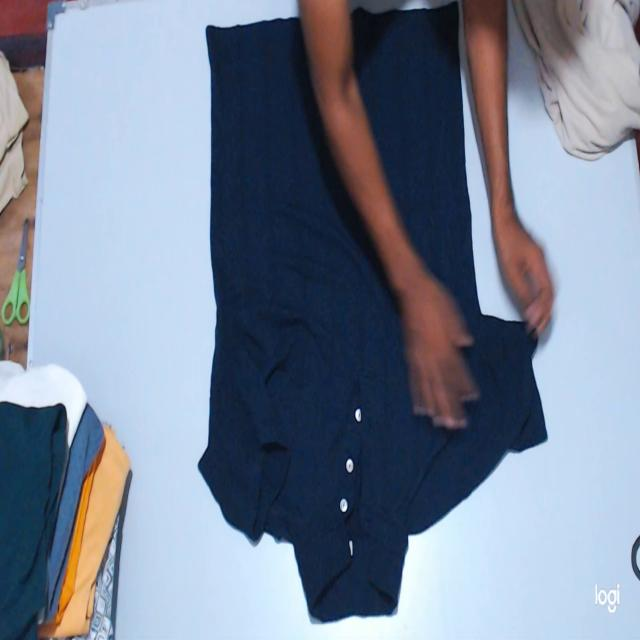new-garment: (200, 5, 546, 620)
